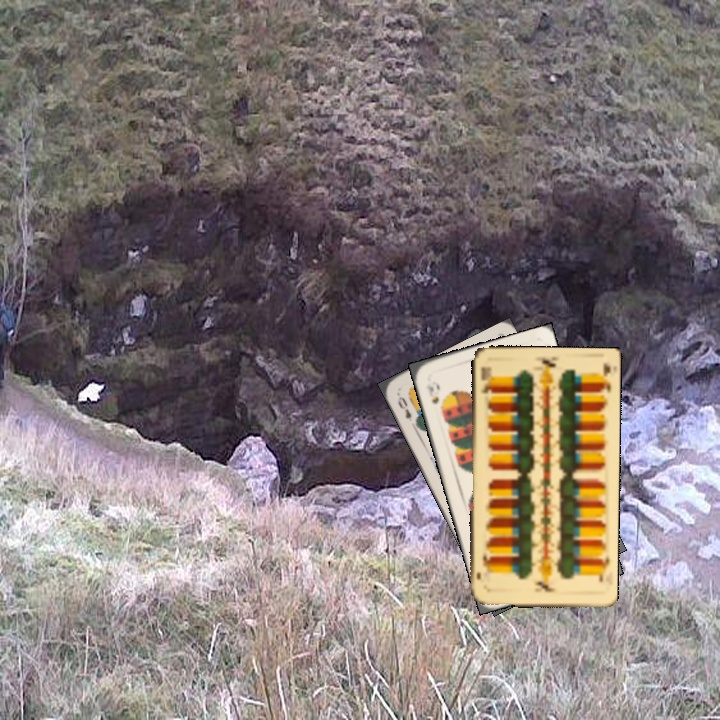E10: (594, 551, 612, 585), (477, 362, 495, 395)
EO: (393, 392, 420, 426)
S10: (421, 380, 441, 406)
